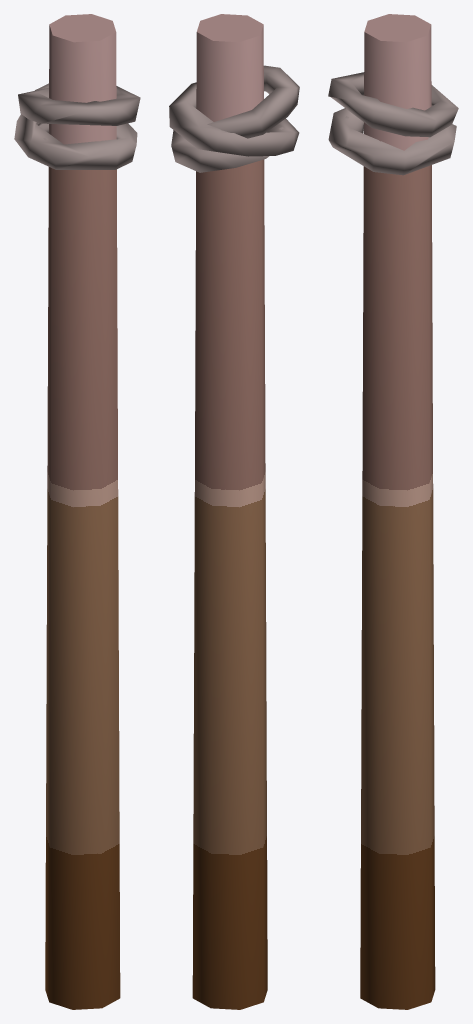
File: Environment_Dock_Pole.gltf
The picture shows the model from 3 angles, left to right: view 1: azimuth 30°, elevation 25°; view 2: azimuth 150°, elevation 25°; view 3: azimuth 330°, elevation 25°; orthographic projection.
Visible parts, largest first — view 1: Environment_Dock_Pole; view 2: Environment_Dock_Pole; view 3: Environment_Dock_Pole.
Part boxes in pixels (x1,y1,x2,y2): Environment_Dock_Pole: (14,14,140,1009); Environment_Dock_Pole: (169,14,299,1009); Environment_Dock_Pole: (328,14,458,1009).
Size of the model in its own units: 0.3512 by 3.01 by 0.3534.
Materials: 1 (1 with a texture image).
